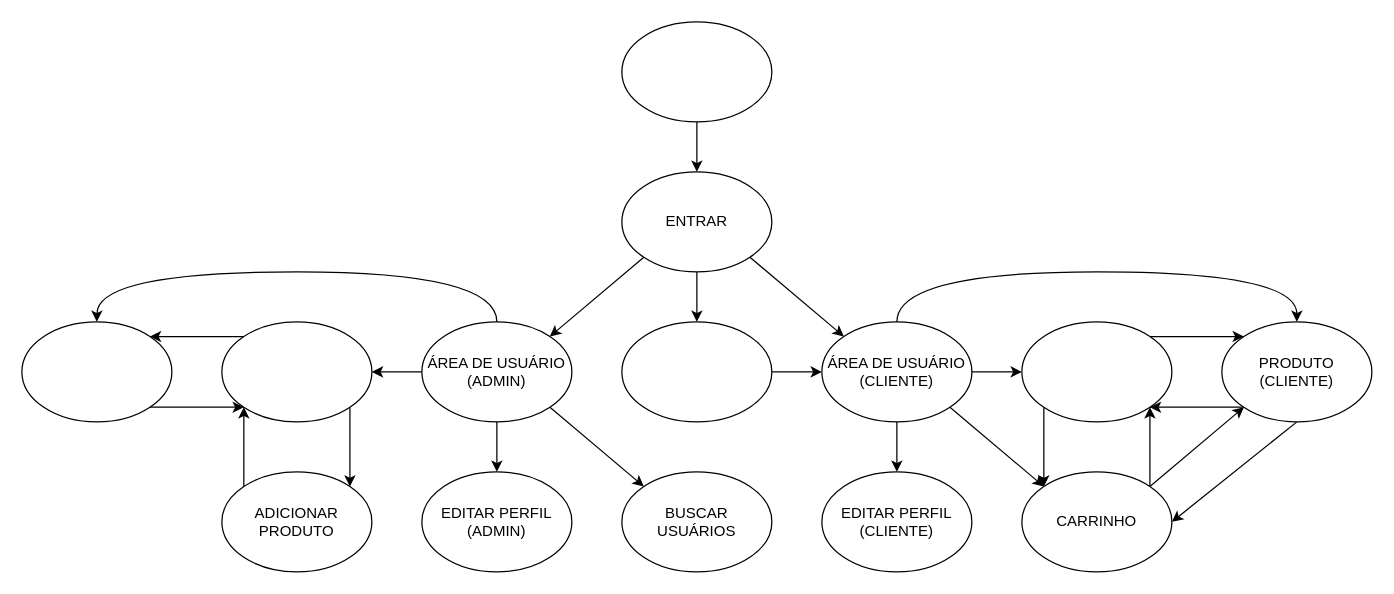
Some shapes in this 1394 by 594 pixel diagram are drawn without their labels. The box of each missing label's shape, as (x1, y1, x2, y2) in pixels:
BUSCAR PRODUTOS (ADMIN): (221, 321, 372, 422)
BUSCAR PRODUTOS (CLIENTE): (1021, 321, 1172, 422)
CADASTRAR: (621, 321, 772, 422)
PRODUTO (ADMIN): (21, 321, 172, 422)
PÁGINA INICIAL: (621, 21, 772, 122)
